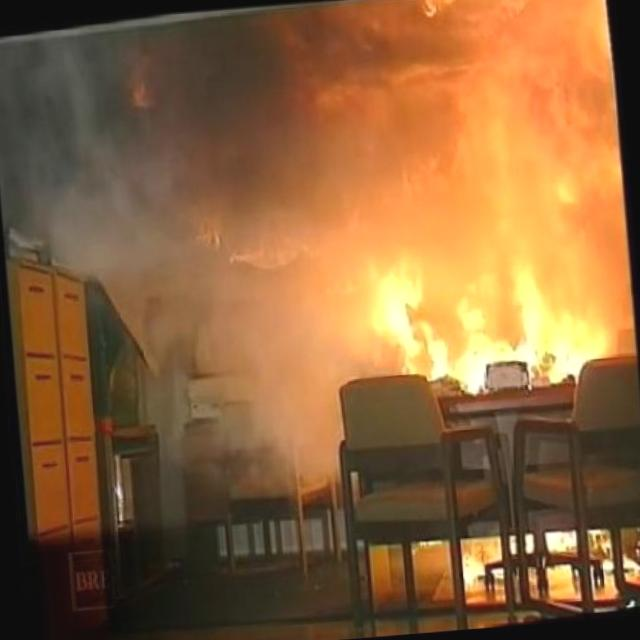fire: (338, 115, 638, 391)
smoke: (0, 13, 255, 297)
